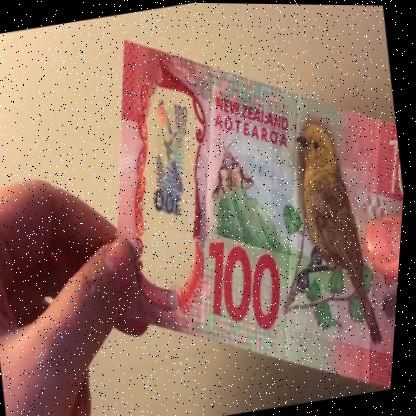100B: (132, 88, 220, 240)
